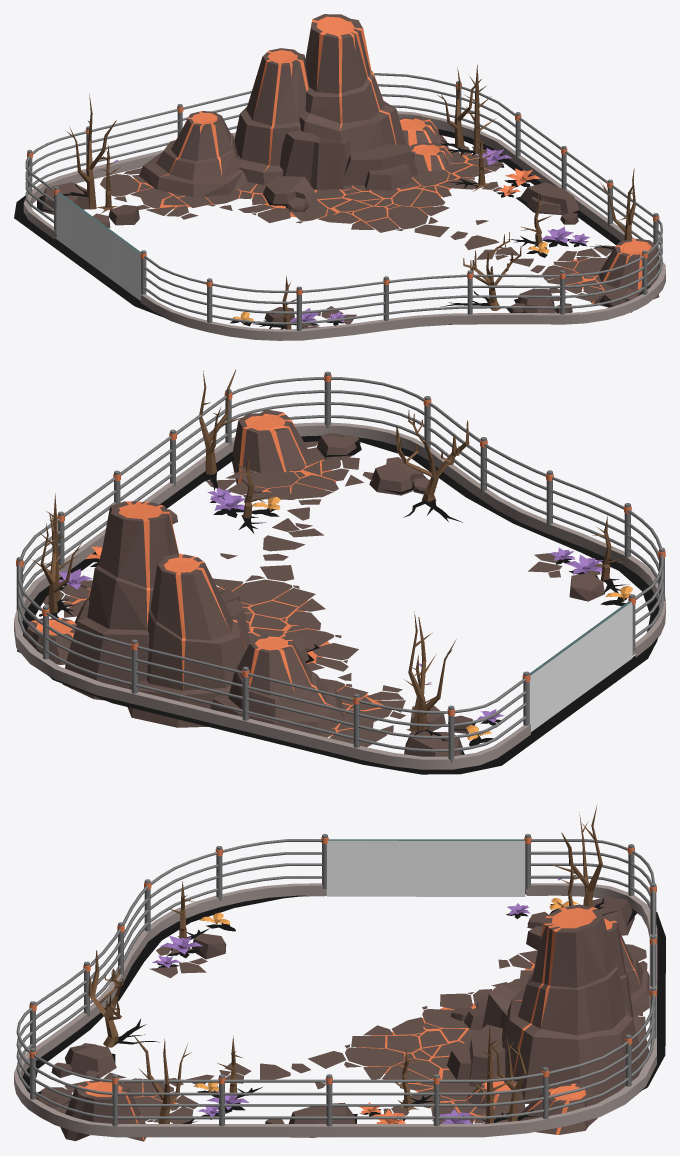
File: xweilan_1018_2.FBX
3 views of the same model, one above another, from view 1: azimuth 30°, elevation 25°; view 2: azimuth 150°, elevation 25°; view 3: azimuth 270°, elevation 25° (orthographic). The views are drawn at different scales.
Visible parts, largest first — view 1: xweilan_1018_2; view 2: xweilan_1018_2; view 3: xweilan_1018_2.
Part boxes in pixels (x1,y1,x2,y2): xweilan_1018_2: [14, 14, 665, 340]; xweilan_1018_2: [14, 369, 665, 774]; xweilan_1018_2: [14, 806, 665, 1141].
Size of the model in its own units: 9475 by 3041 by 10518.
